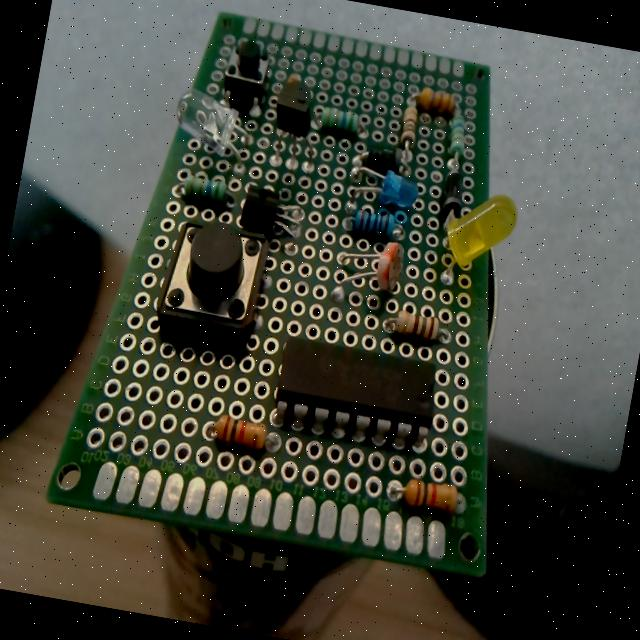IC: (275, 332, 443, 446)
cds: (329, 232, 408, 310)
diode: (440, 170, 468, 220), (354, 140, 396, 172)
led: (430, 183, 520, 298), (170, 85, 256, 163), (350, 168, 422, 220)
resistor: (396, 475, 460, 515), (346, 204, 407, 243), (392, 102, 422, 176), (212, 414, 268, 453), (389, 309, 442, 343), (182, 172, 229, 208), (317, 104, 361, 138), (414, 85, 456, 117), (443, 112, 469, 158)
switch: (156, 216, 273, 344), (220, 36, 272, 108)
transistor: (264, 72, 326, 172), (238, 184, 306, 242)
